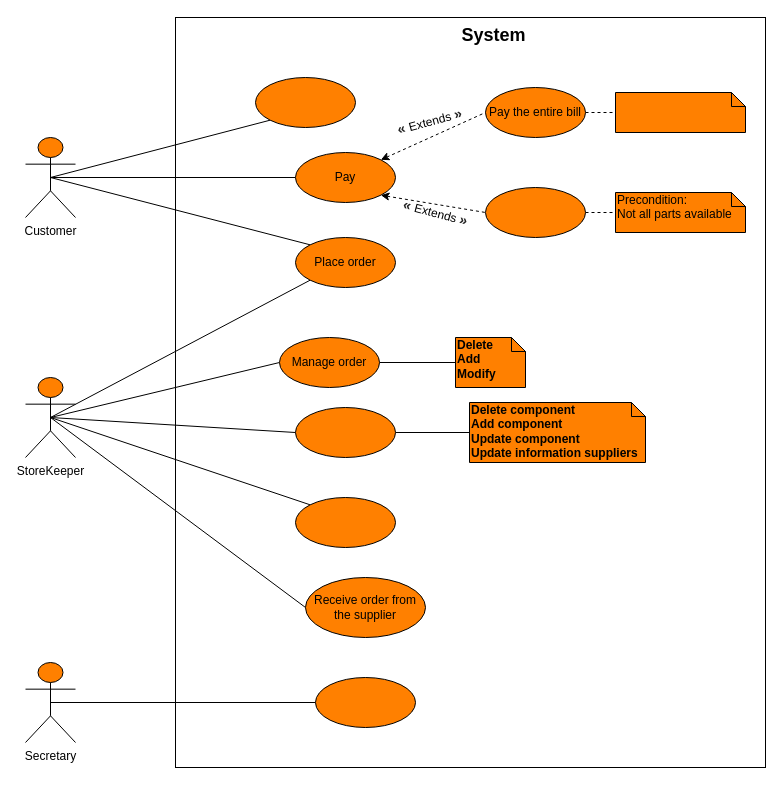
The diagram is 783 pixels wide and 785 high, and some of its shapes have lost their labels. Each missing label, with the centre of its shape:
"Consult the catalog" belongs at [305,102].
"Manage stock" belongs at [345,432].
"Order new stock" belongs at [345,522].
"Pay deposit" belongs at [535,212].
"Precondition: All parts available" belongs at [680,112].
"Update prices" belongs at [365,702].
